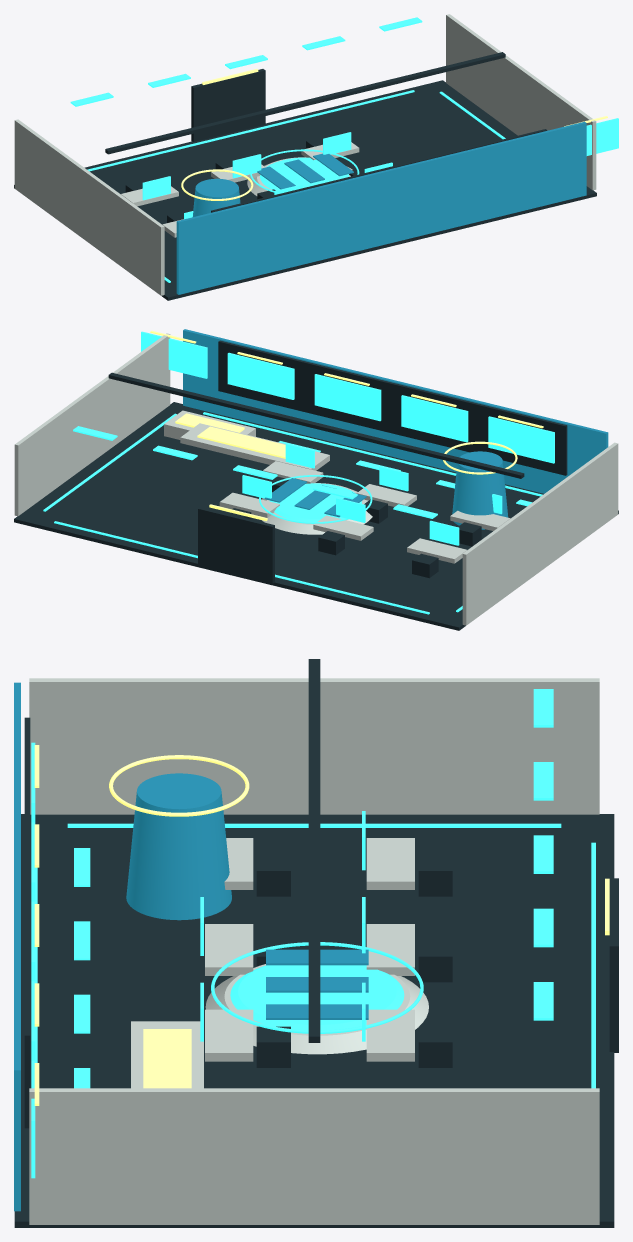
Rendered from hq-floor.glb.
3 views of the same model, one above another, from view 1: azimuth 30°, elevation 25°; view 2: azimuth 150°, elevation 25°; view 3: azimuth 270°, elevation 25° (orthographic). The views are drawn at different scales.
Visible parts, largest first — view 1: rj-hq-floor-interior-rear-glass-wall, rj-hq-floor-interior-raised-interior-floor, rj-hq-floor-interior-left-wall-frame, rj-hq-floor-interior-right-wall-frame, rj-hq-floor-interior-exit-door-frame, rj-hq-floor-interior-ceiling-spine, rj-hq-floor-interior-hq-identity-core, rj-hq-floor-interior-hologram-map-table, rj-hq-floor-interior-front-wayfinding-rail, rj-hq-floor-interior-screen-wall-backplane, rj-hq-floor-interior-main-display-5, rj-hq-floor-interior-monitor-1-1 (+7 smaller); view 2: rj-hq-floor-interior-raised-interior-floor, rj-hq-floor-interior-left-wall-frame, rj-hq-floor-interior-right-wall-frame, rj-hq-floor-interior-rear-glass-wall, rj-hq-floor-interior-screen-wall-backplane, rj-hq-floor-interior-exit-door-frame, rj-hq-floor-interior-ceiling-spine, rj-hq-floor-interior-hq-identity-core, rj-hq-floor-interior-main-display-2, rj-hq-floor-interior-main-display-3, rj-hq-floor-interior-main-display-4, rj-hq-floor-interior-main-display-1 (+27 smaller); view 3: rj-hq-floor-interior-raised-interior-floor, rj-hq-floor-interior-right-wall-frame, rj-hq-floor-interior-left-wall-frame, rj-hq-floor-interior-hq-identity-core, rj-hq-floor-interior-hologram-map-table, rj-hq-floor-interior-ceiling-spine, rj-hq-floor-interior-rear-glass-wall, rj-hq-floor-interior-decision-table-base, rj-hq-floor-interior-briefing-map, rj-hq-floor-interior-screen-wall-backplane, rj-hq-floor-interior-desk-1-1, rj-hq-floor-interior-desk-2-3 (+23 smaller).
Part boxes in pixels (x1,y1,x2,y2): rj-hq-floor-interior-rear-glass-wall: (176, 121, 586, 294); rj-hq-floor-interior-raised-interior-floor: (14, 80, 596, 300); rj-hq-floor-interior-left-wall-frame: (14, 119, 164, 295); rj-hq-floor-interior-right-wall-frame: (446, 14, 596, 190); rj-hq-floor-interior-exit-door-frame: (191, 69, 265, 141); rj-hq-floor-interior-ceiling-spine: (105, 52, 505, 154); rj-hq-floor-interior-hq-identity-core: (193, 178, 240, 216); rj-hq-floor-interior-hologram-map-table: (260, 157, 349, 190); rj-hq-floor-interior-front-wayfinding-rail: (87, 90, 414, 171); rj-hq-floor-interior-screen-wall-backplane: (211, 129, 547, 212); rj-hq-floor-interior-main-display-5: (586, 118, 618, 155); rj-hq-floor-interior-monitor-1-1: (142, 176, 170, 200); rj-hq-floor-interior-raised-interior-floor: (14, 402, 618, 630); rj-hq-floor-interior-left-wall-frame: (462, 442, 618, 625); rj-hq-floor-interior-right-wall-frame: (14, 333, 170, 515); rj-hq-floor-interior-rear-glass-wall: (183, 329, 608, 493); rj-hq-floor-interior-screen-wall-backplane: (218, 340, 567, 475); rj-hq-floor-interior-exit-door-frame: (198, 507, 274, 583); rj-hq-floor-interior-ceiling-spine: (108, 372, 524, 478); rj-hq-floor-interior-hq-identity-core: (452, 451, 508, 529); rj-hq-floor-interior-main-display-2: (401, 395, 468, 442); rj-hq-floor-interior-main-display-3: (314, 374, 381, 421); rj-hq-floor-interior-main-display-4: (227, 352, 294, 399); rj-hq-floor-interior-main-display-1: (488, 416, 554, 463); rj-hq-floor-interior-raised-interior-floor: (14, 814, 614, 1227); rj-hq-floor-interior-right-wall-frame: (29, 1088, 599, 1224); rj-hq-floor-interior-left-wall-frame: (29, 678, 599, 814); rj-hq-floor-interior-hq-identity-core: (126, 773, 231, 920); rj-hq-floor-interior-hologram-map-table: (230, 965, 404, 1030); rj-hq-floor-interior-ceiling-spine: (308, 659, 320, 1042); rj-hq-floor-interior-rear-glass-wall: (14, 682, 20, 1211); rj-hq-floor-interior-decision-table-base: (205, 964, 428, 1054); rj-hq-floor-interior-briefing-map: (143, 1029, 191, 1088); rj-hq-floor-interior-screen-wall-backplane: (24, 717, 30, 1128); rj-hq-floor-interior-desk-1-1: (366, 838, 414, 889); rj-hq-floor-interior-desk-2-3: (205, 1009, 253, 1061).
Size of the model in its own units: 17.53 by 3.31 by 10.29.
